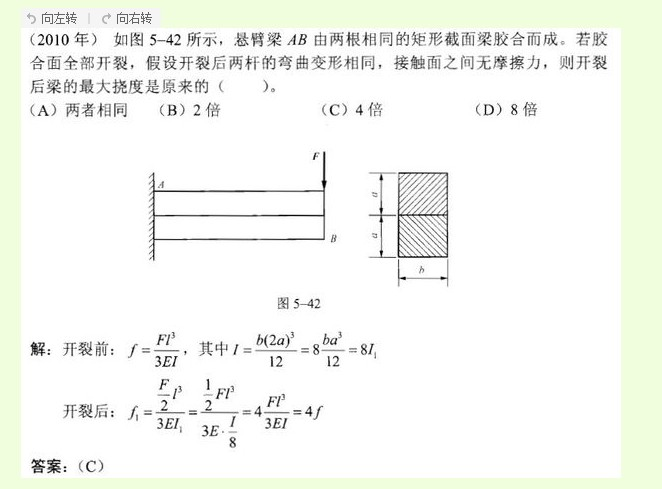cube: (174, 386, 184, 395), (288, 328, 295, 339), (170, 329, 178, 338), (336, 331, 343, 339), (279, 393, 286, 401), (230, 384, 234, 395)
division: (198, 408, 239, 416), (255, 348, 300, 355), (154, 346, 178, 357), (262, 409, 290, 418), (155, 408, 185, 416), (318, 346, 344, 354), (158, 390, 170, 398), (201, 391, 216, 397), (226, 429, 235, 434)
